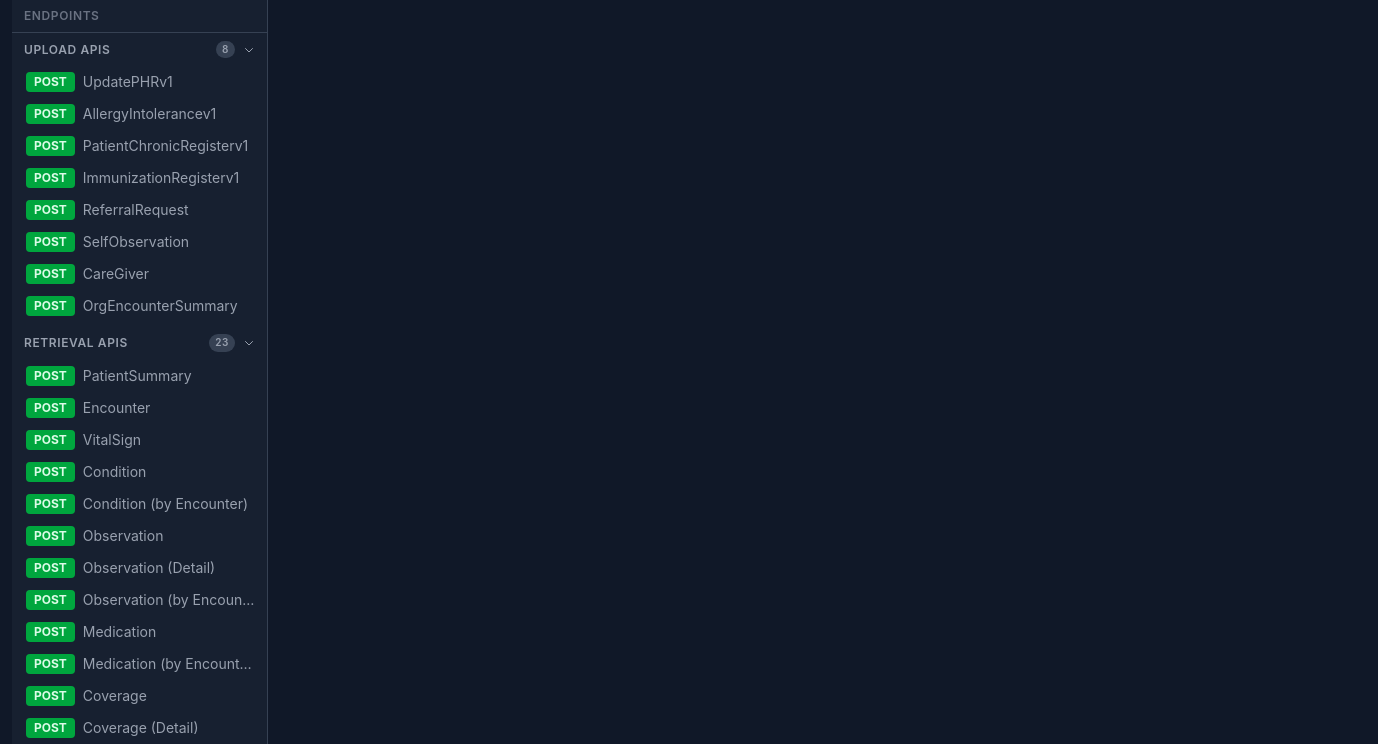
Scenario: Endpoint selection → RequestPanel › shows auth warning for auth-required endpoints when not authenticated
What coordinates should you click on to do the following:
click the text "UpdatePHRv1"
I would click on:
 (128, 82)
Its box is [83,72,173,92].
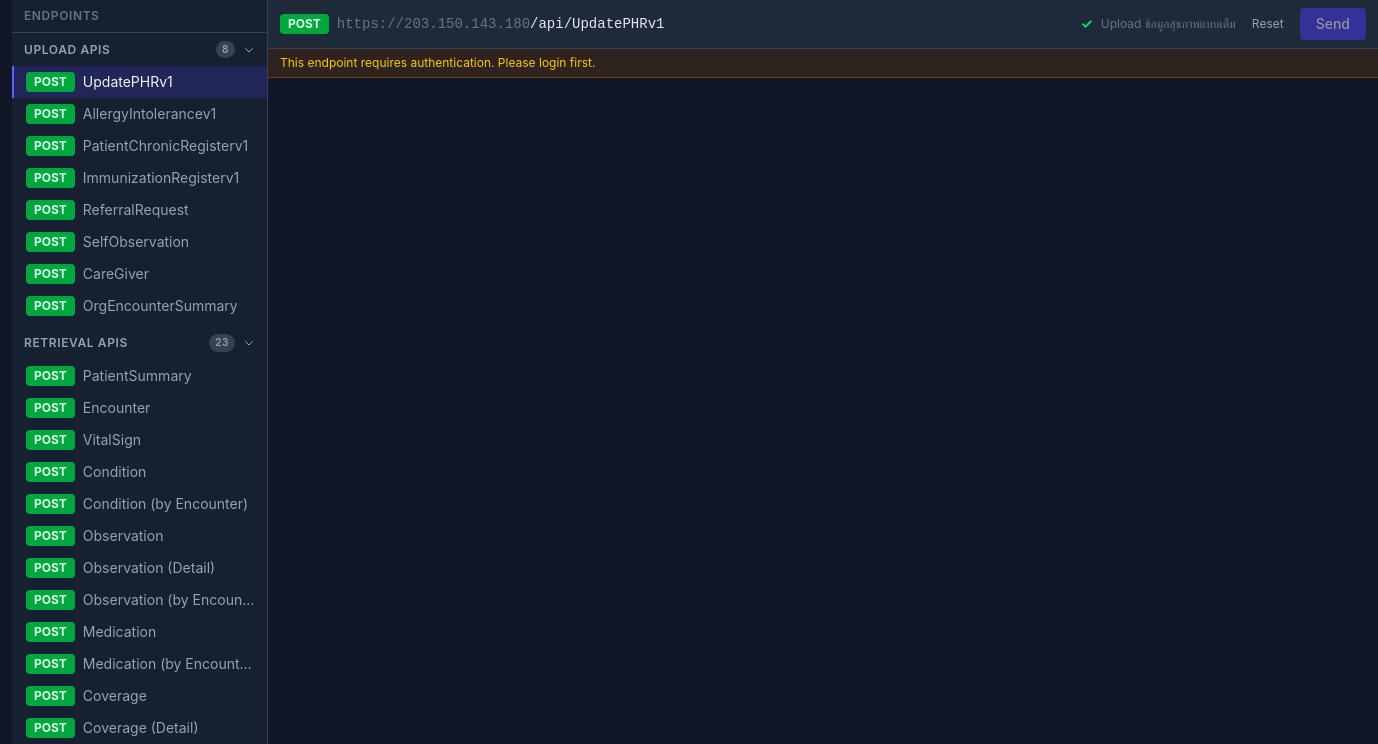
Now the text "This endpoint requires authentication. Please login first." is shown, box [268,49,1377,78]
